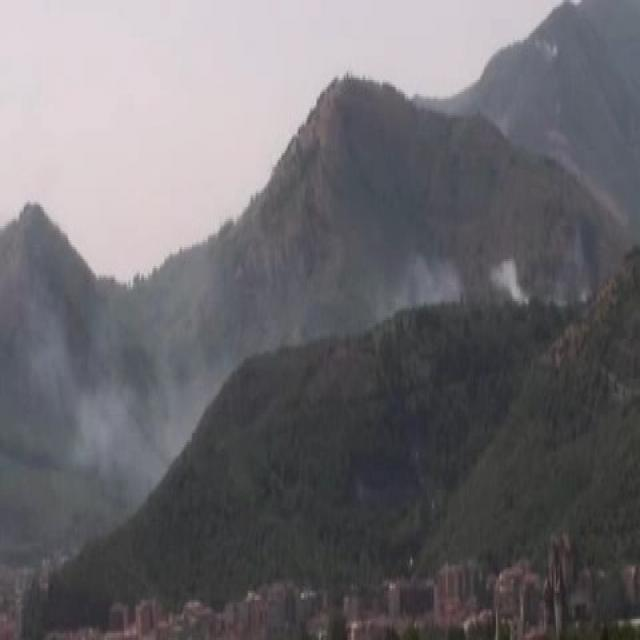smoke: (407, 241, 524, 307)
